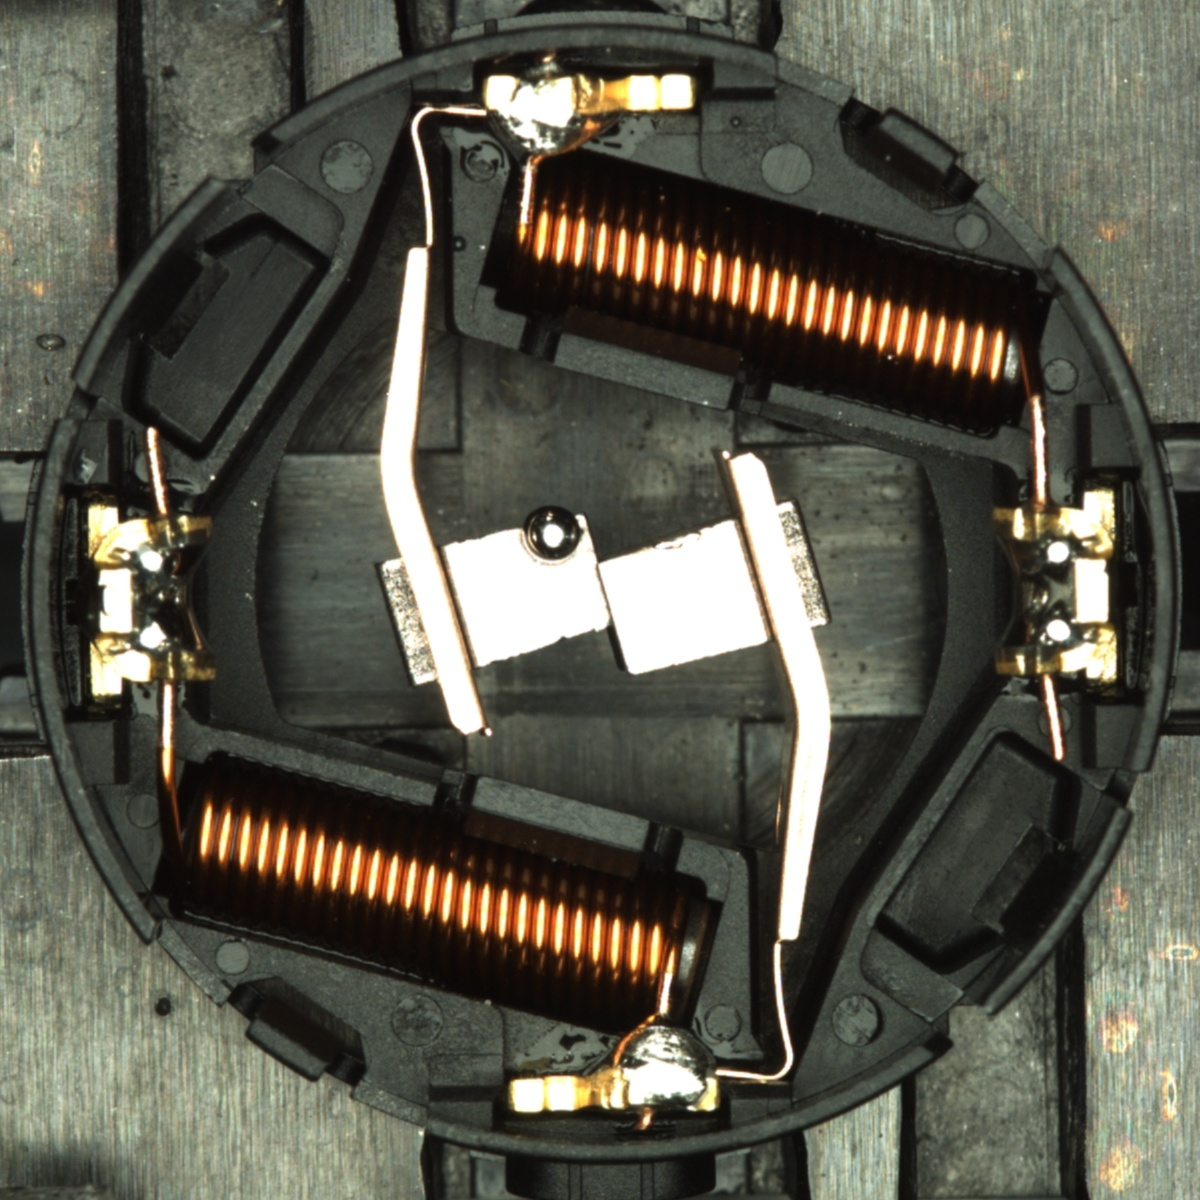1: (258, 55, 487, 279), (716, 953, 945, 1177)
2: (716, 55, 945, 279), (258, 953, 487, 1177)
3: (29, 279, 258, 503), (945, 729, 1175, 953)
4: (258, 279, 487, 503), (716, 729, 945, 953)
5: (487, 167, 716, 391), (487, 841, 716, 1065)
6: (716, 279, 945, 503), (258, 729, 487, 953)
7: (945, 279, 1175, 503), (29, 729, 258, 953)
chau_dien: (985, 488, 1125, 688), (80, 499, 219, 698)
hat_chi: (523, 505, 582, 560)
tay_choi: (481, 70, 700, 169), (508, 1015, 721, 1116)
thanh_de: (954, 788, 1141, 1032), (58, 164, 244, 405)
